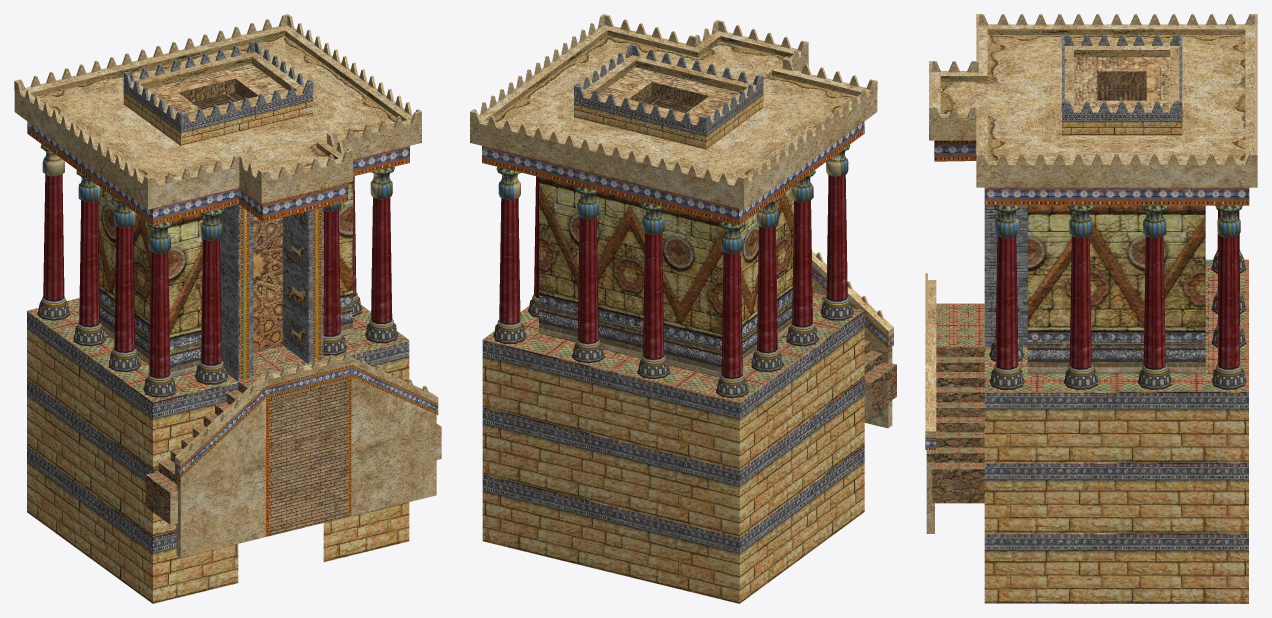
The model's file is pers_temple.glb.
3 renders of one model, left to right at view 1: azimuth 30°, elevation 25°; view 2: azimuth 150°, elevation 25°; view 3: azimuth 270°, elevation 25°, orthographic. The views are drawn at different scales.
Bounding box in the file's own units: 17.55 × 27.34 × 17.51.
1 material, 1 textured.
